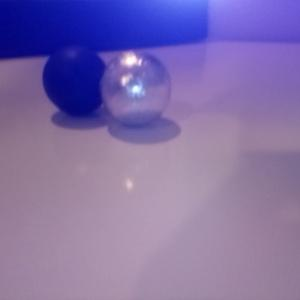alive_ball: (99, 49, 171, 125)
dead_ball: (42, 47, 109, 117)
